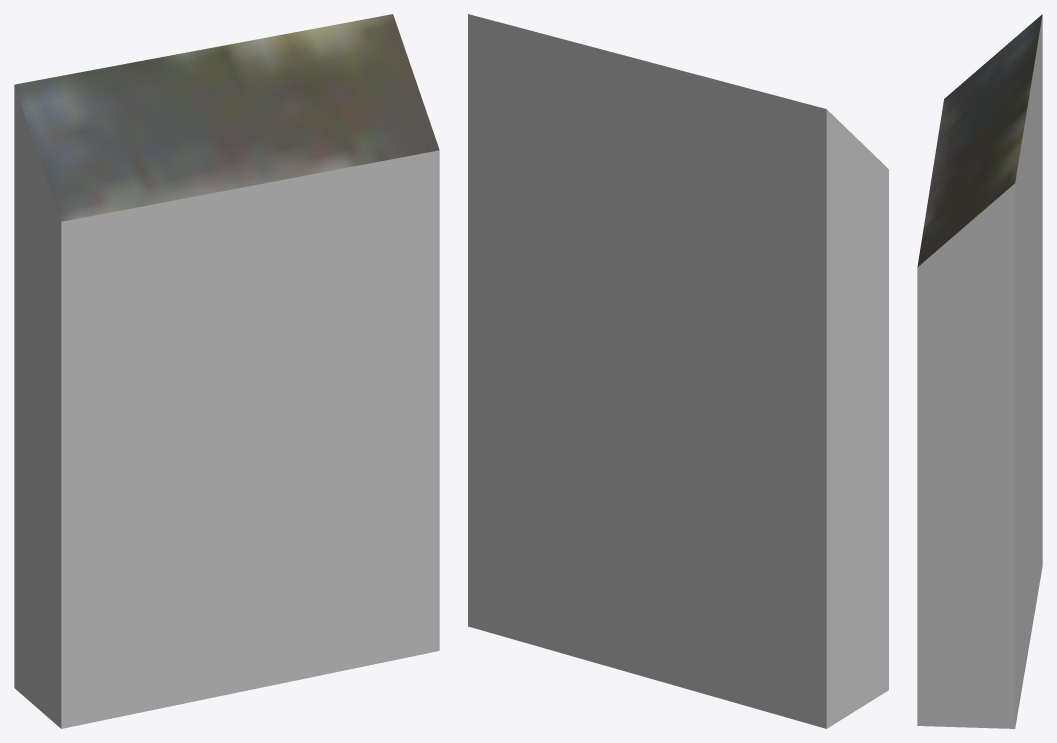
Rendered from DEBW_0010007THZl.gltf.
3 renders of one model, left to right at view 1: azimuth 30°, elevation 25°; view 2: azimuth 150°, elevation 25°; view 3: azimuth 270°, elevation 25°, orthographic. The views are drawn at different scales.
Visible parts, largest first — view 1: Z_UP; view 2: Z_UP; view 3: Z_UP.
Boxes of the visible parts, left/top/right/bottom form: Z_UP: left=14, top=14, right=439, bottom=728; Z_UP: left=468, top=14, right=888, bottom=728; Z_UP: left=917, top=14, right=1042, bottom=728.
Size of the model in its own units: 6.01 by 9.35 by 1.92.
2 materials, 1 textured.
